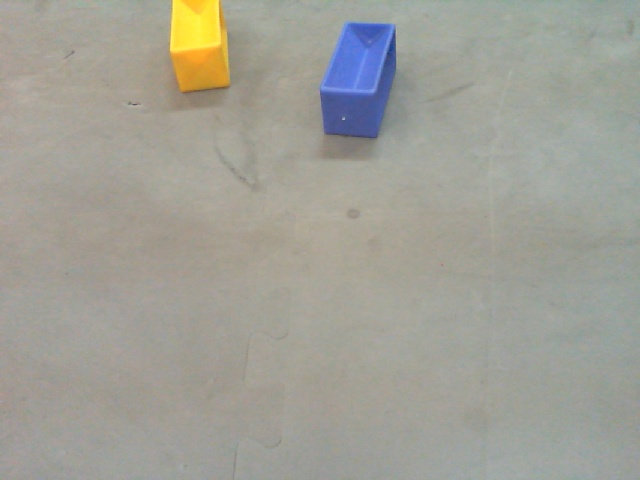BlueSample: (318, 20, 396, 142)
YellowSample: (168, 1, 232, 99)
